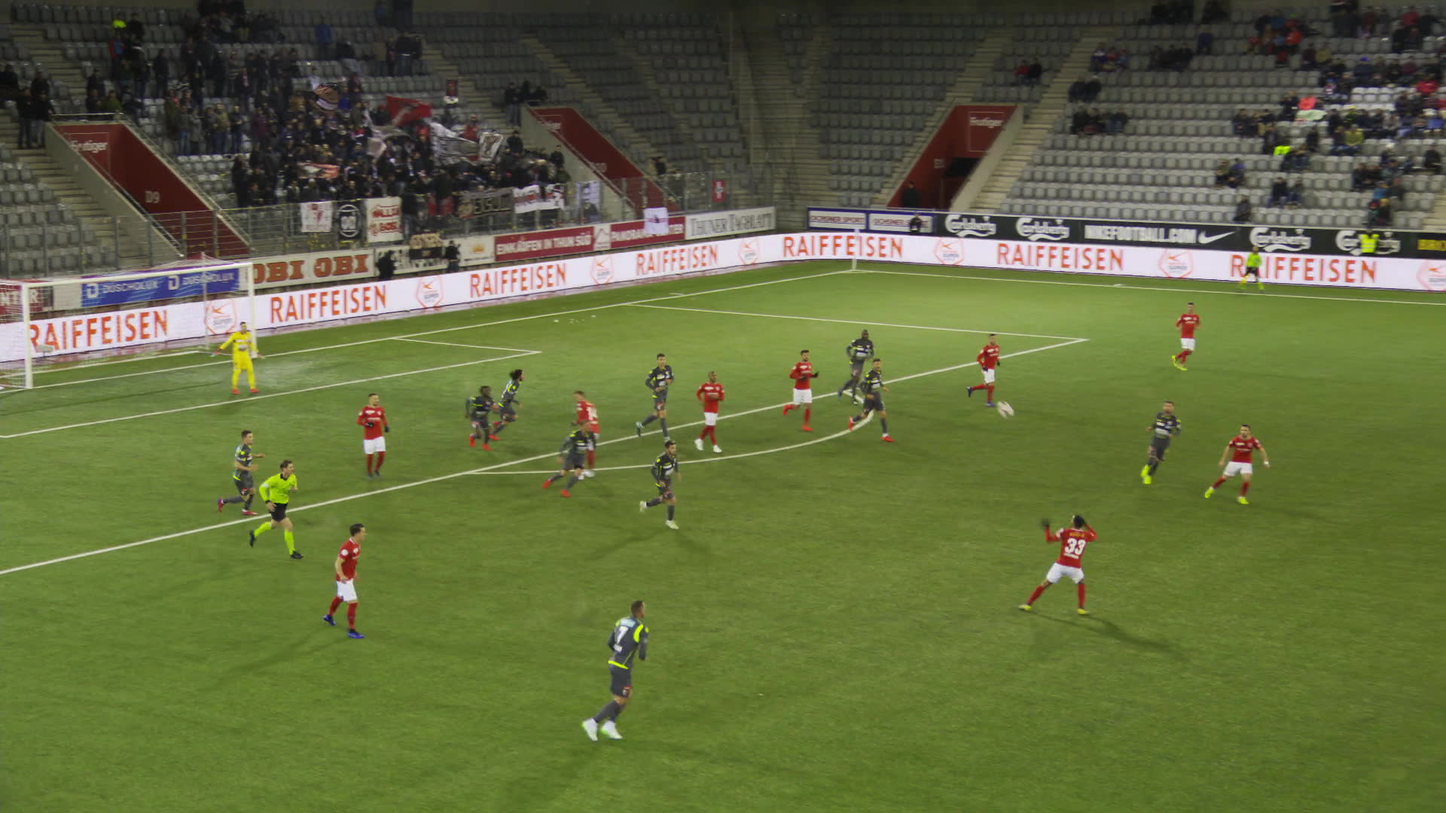ball: (997, 400, 1012, 416)
player: (576, 599, 652, 738), (1018, 513, 1098, 616), (322, 523, 369, 639), (1206, 423, 1269, 505), (637, 440, 685, 528), (215, 428, 262, 517), (548, 419, 597, 498), (636, 352, 679, 442), (212, 321, 265, 394), (849, 356, 893, 442), (1143, 401, 1185, 486), (355, 394, 391, 480), (782, 348, 819, 431), (838, 329, 877, 403), (966, 331, 1002, 408), (487, 369, 524, 441), (574, 392, 602, 480), (1169, 301, 1203, 371), (697, 370, 725, 452), (466, 385, 493, 452)
referee: (252, 461, 297, 559), (1241, 243, 1267, 293)
